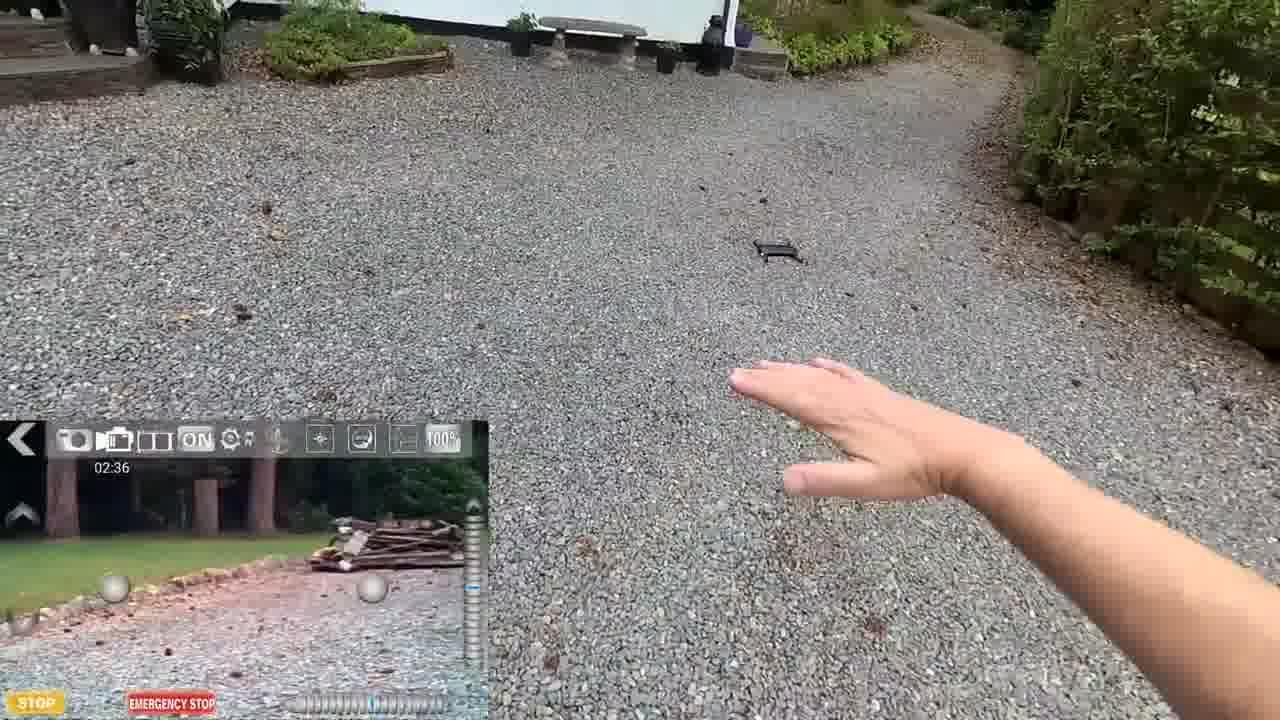drone: (748, 230, 814, 272)
